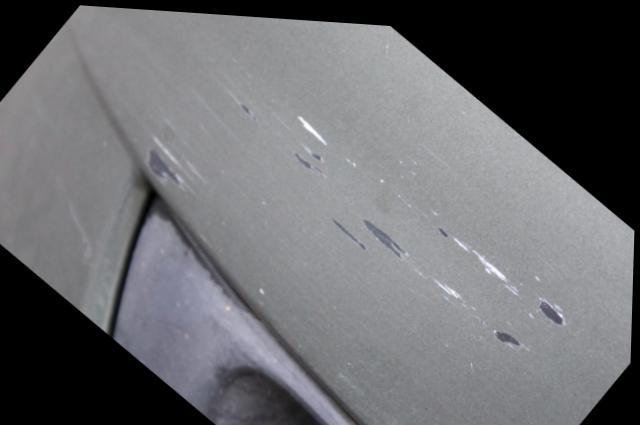scratch: (143, 48, 572, 345)
